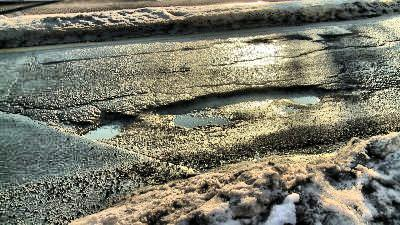pothole: (145, 82, 366, 133), (71, 113, 136, 149), (316, 31, 361, 40)
